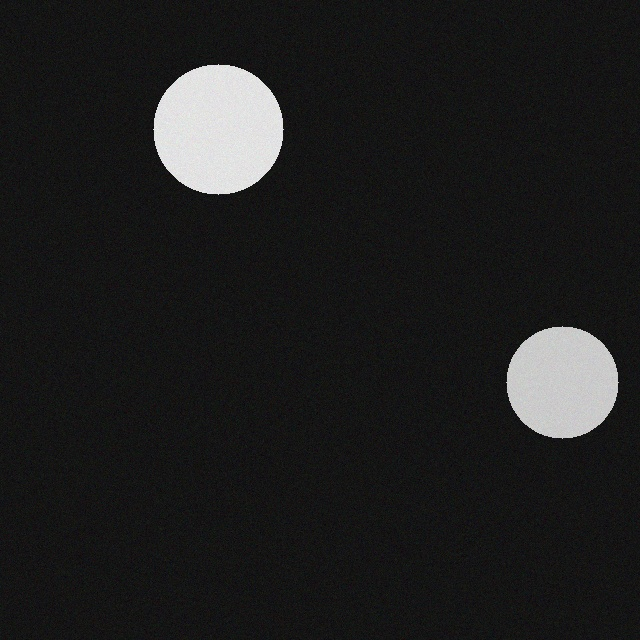circle: (147, 62, 277, 192), (500, 324, 612, 436)
